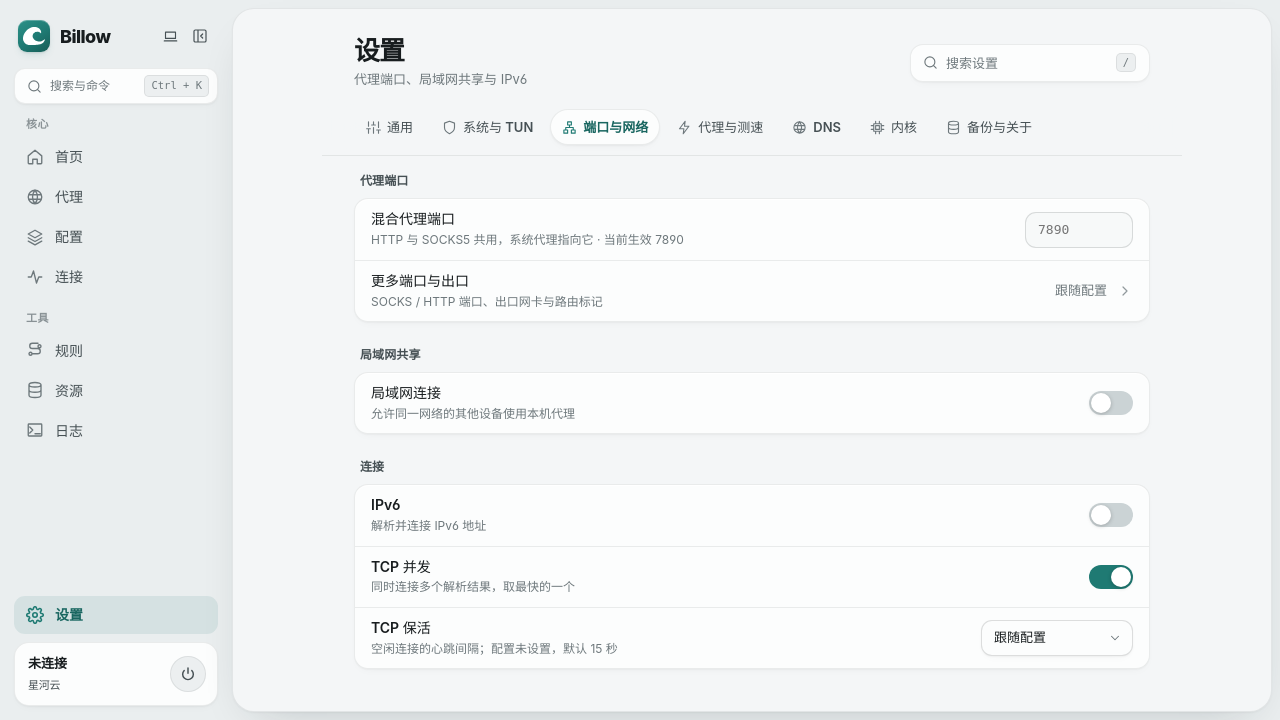
Scenario: LAN sharing › R23: stays out of sight until 局域网连接 is on, then shows where to point other devices
Step 1. Click the switch named "局域网连接" → (1111, 403), box [1089,391,1133,415]
Wait 400 ms
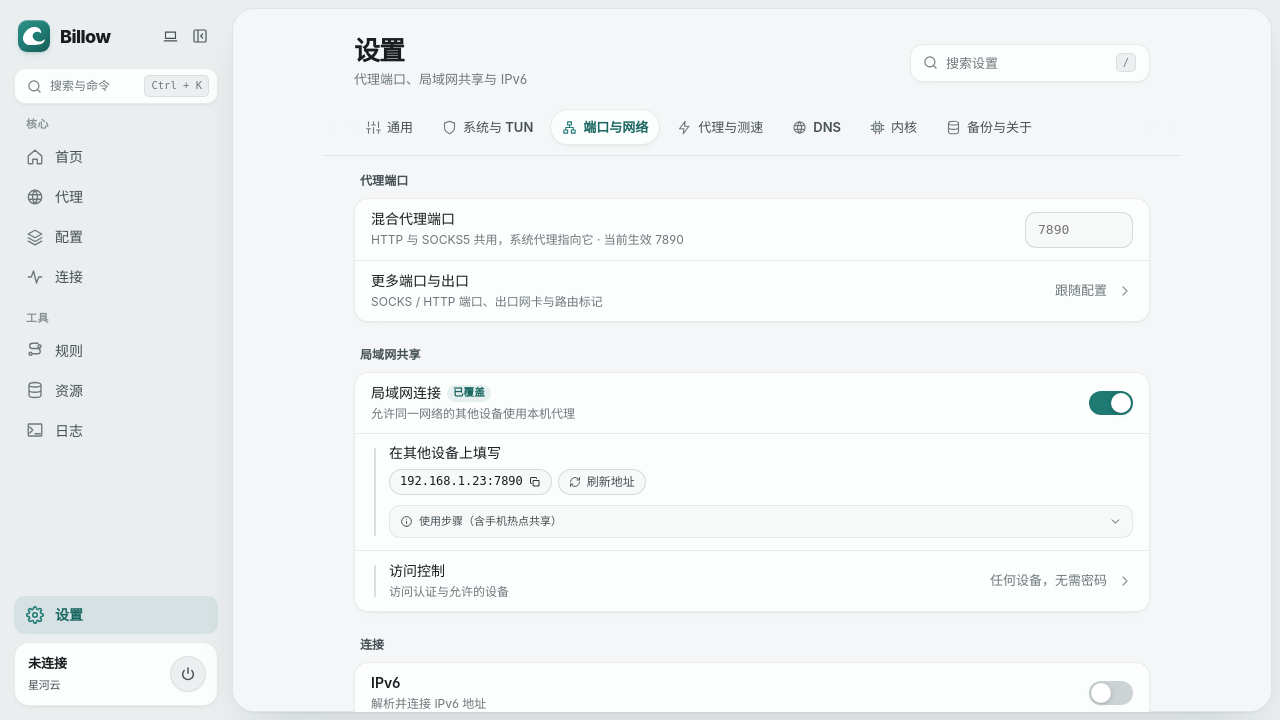
Now the button with test id "lan-address" reads "192.168.1.23:7890", box [389,469,552,495]
Now the button with test id "lan-refresh" is shown, box [558,469,646,495]
Now the element with test id "lan-guide" is shown, box [389,505,1133,538]
